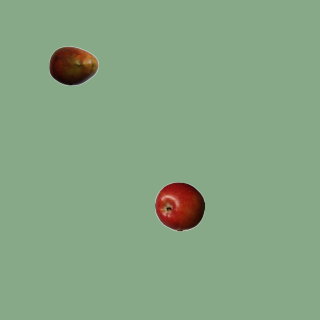Apple Braeburn: (154, 181, 204, 231)
Mango Red: (48, 40, 98, 90)
